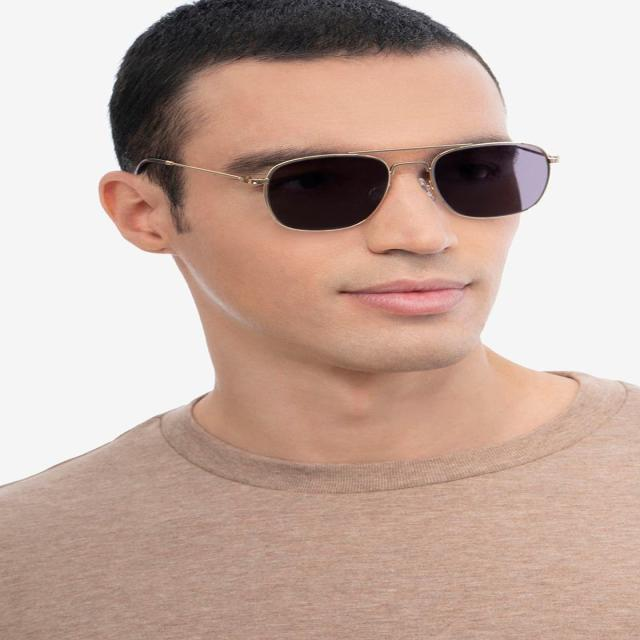2_gafas: (132, 140, 560, 233)
